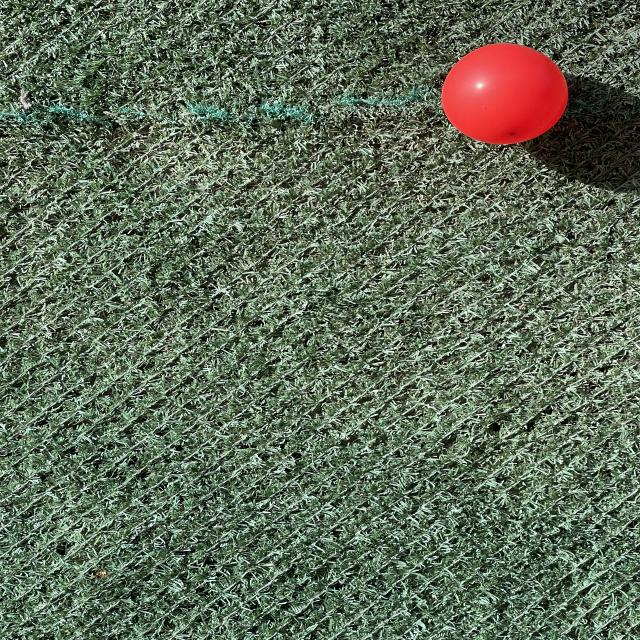balloon: (441, 44, 568, 144)
